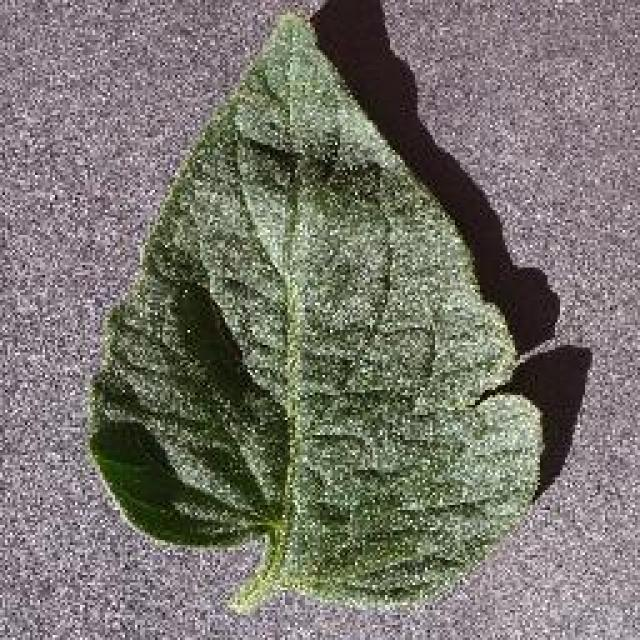Tomato___healthy: (87, 4, 541, 615)
